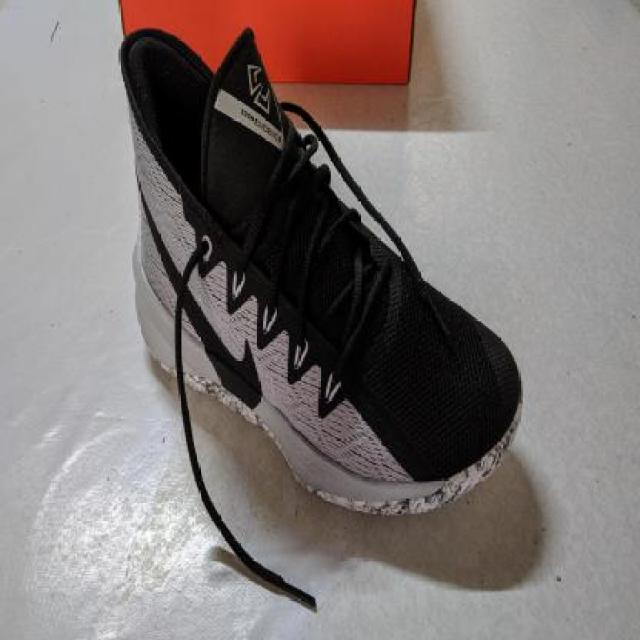shoe: (118, 22, 525, 520)
